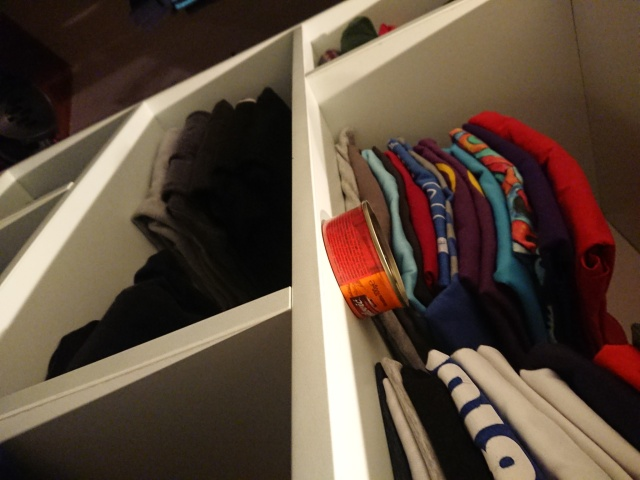Gavrilovic Pork Liver Pate 100g: (319, 197, 412, 322)
